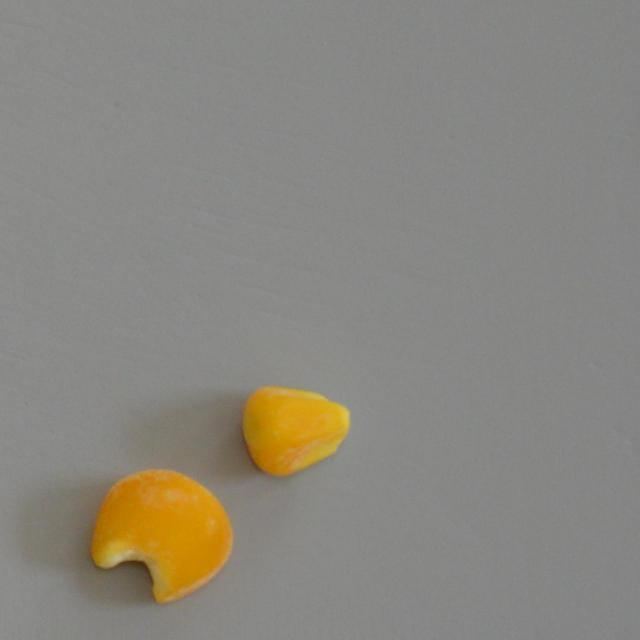no_canjicado: (84, 455, 238, 611), (236, 380, 362, 484)
